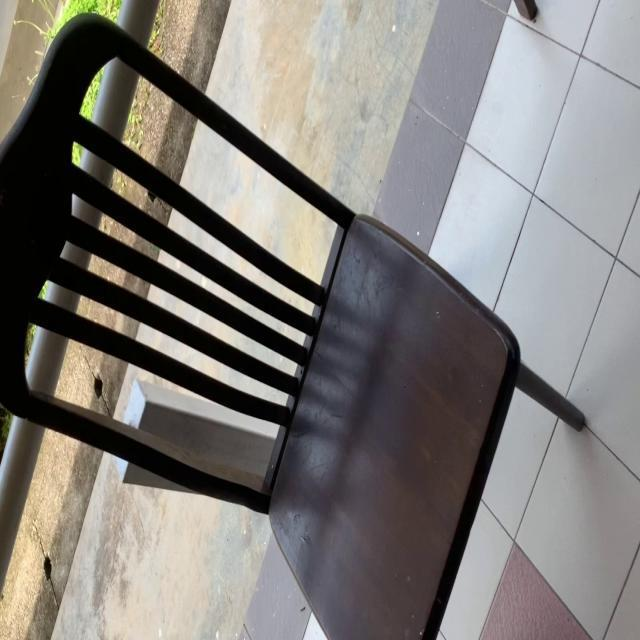chair: (2, 10, 587, 640)
